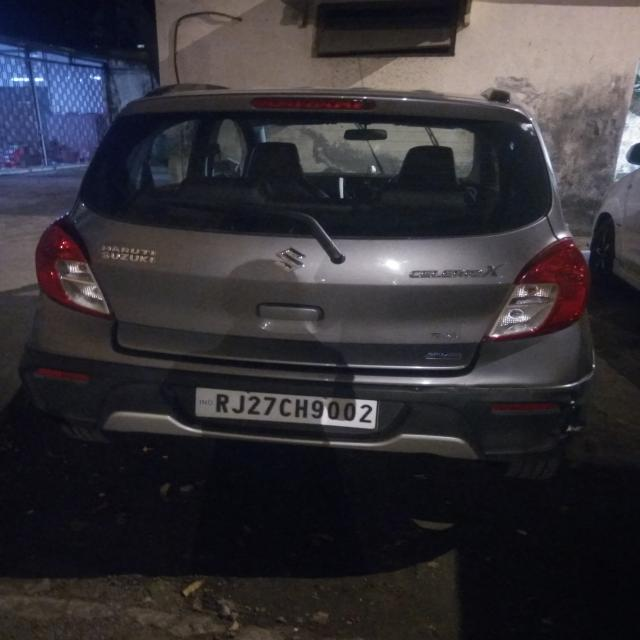Number-Plate: (198, 383, 368, 422)
